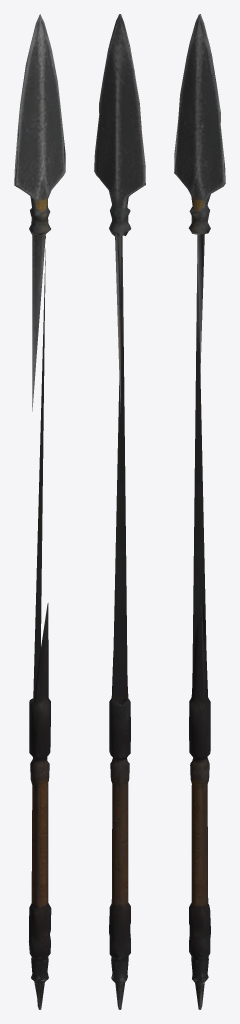
File: wpn_giao-ng.glb
3 views of the same model, side by side, from view 1: azimuth 30°, elevation 25°; view 2: azimuth 150°, elevation 25°; view 3: azimuth 330°, elevation 25° (orthographic).
Size of the model in its own units: 0.1018 by 1.9 by 0.0391.
1 material, 1 textured.
